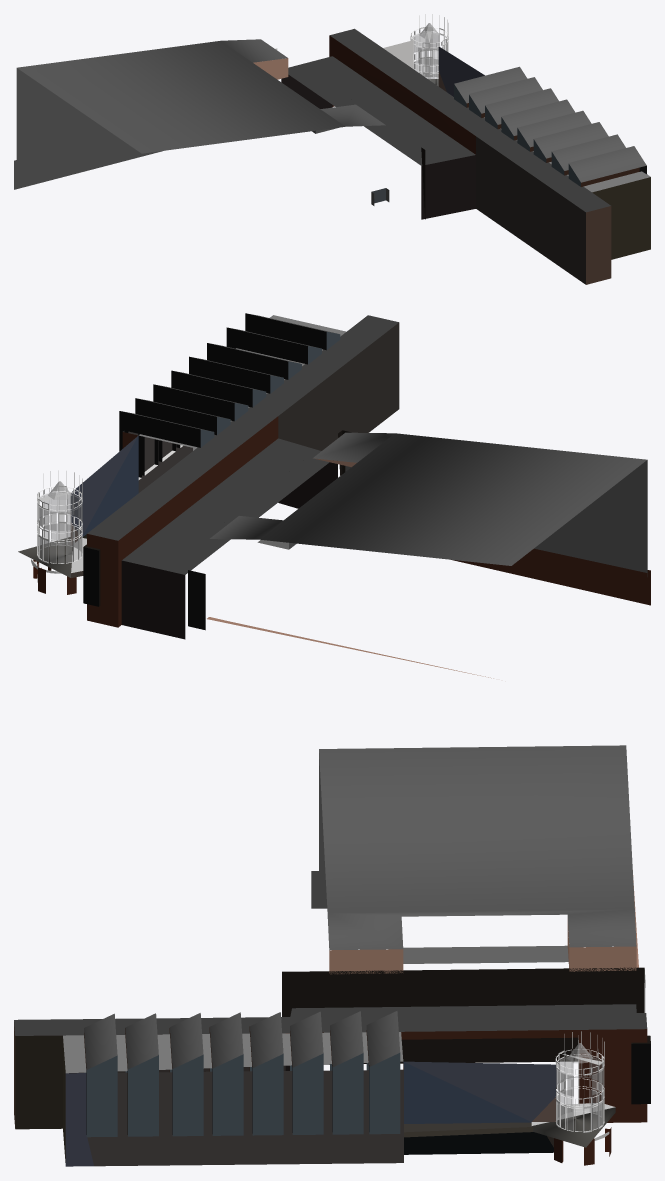
The model's file is imax-chattanooga.glb.
3 views of the same model, one above another, from view 1: azimuth 30°, elevation 25°; view 2: azimuth 150°, elevation 25°; view 3: azimuth 270°, elevation 25° (orthographic). The views are drawn at different scales.
Parts seen in each view (by area): view 1: LOD0; view 2: LOD0; view 3: LOD0.
Part boxes in pixels (x1,y1,x2,y2): LOD0: [14, 14, 650, 284]; LOD0: [18, 313, 650, 678]; LOD0: [14, 745, 650, 1166].
Size of what is drawn, in the model's own units: 67.33 by 18.64 by 67.44.
4 materials, 4 textured.
